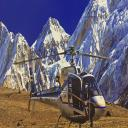helicopter: (22, 44, 113, 128)
